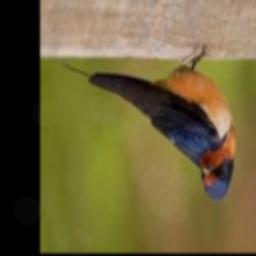Swallow: (62, 43, 237, 199)
